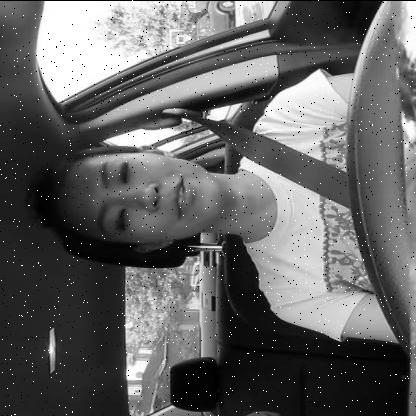seatbelt: (27, 91, 352, 279)
